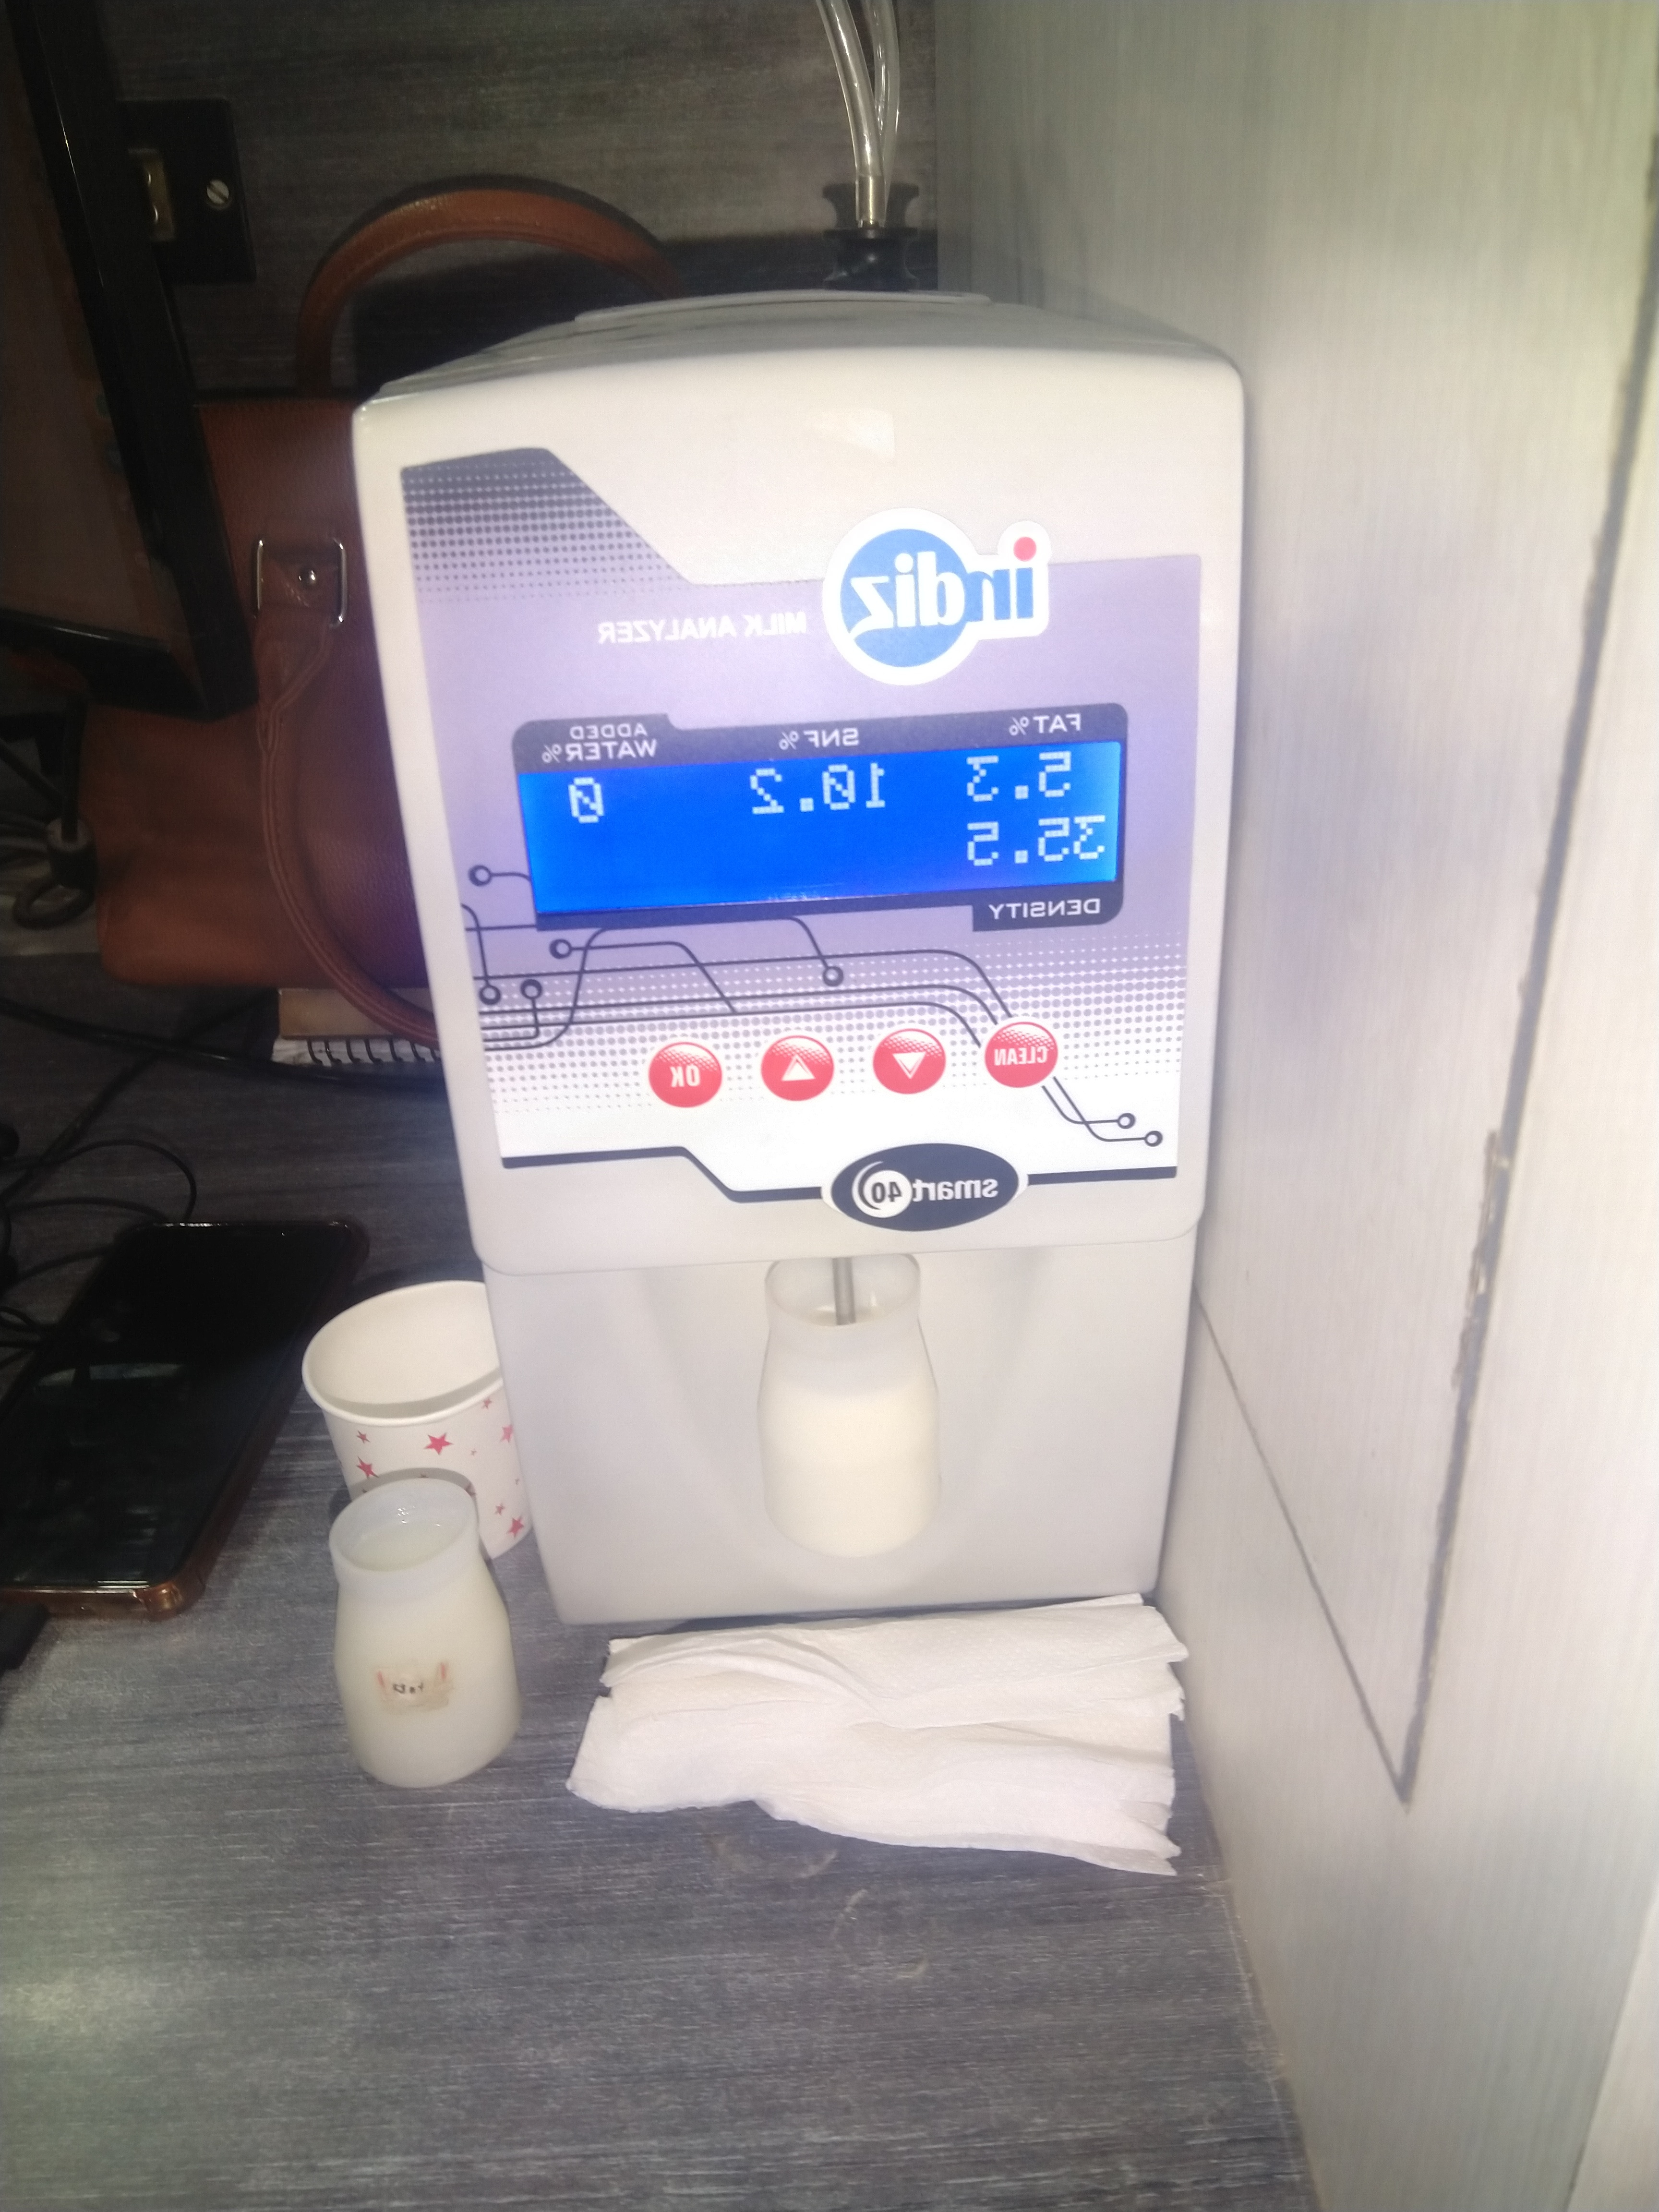lcd: (502, 735, 1150, 921)
